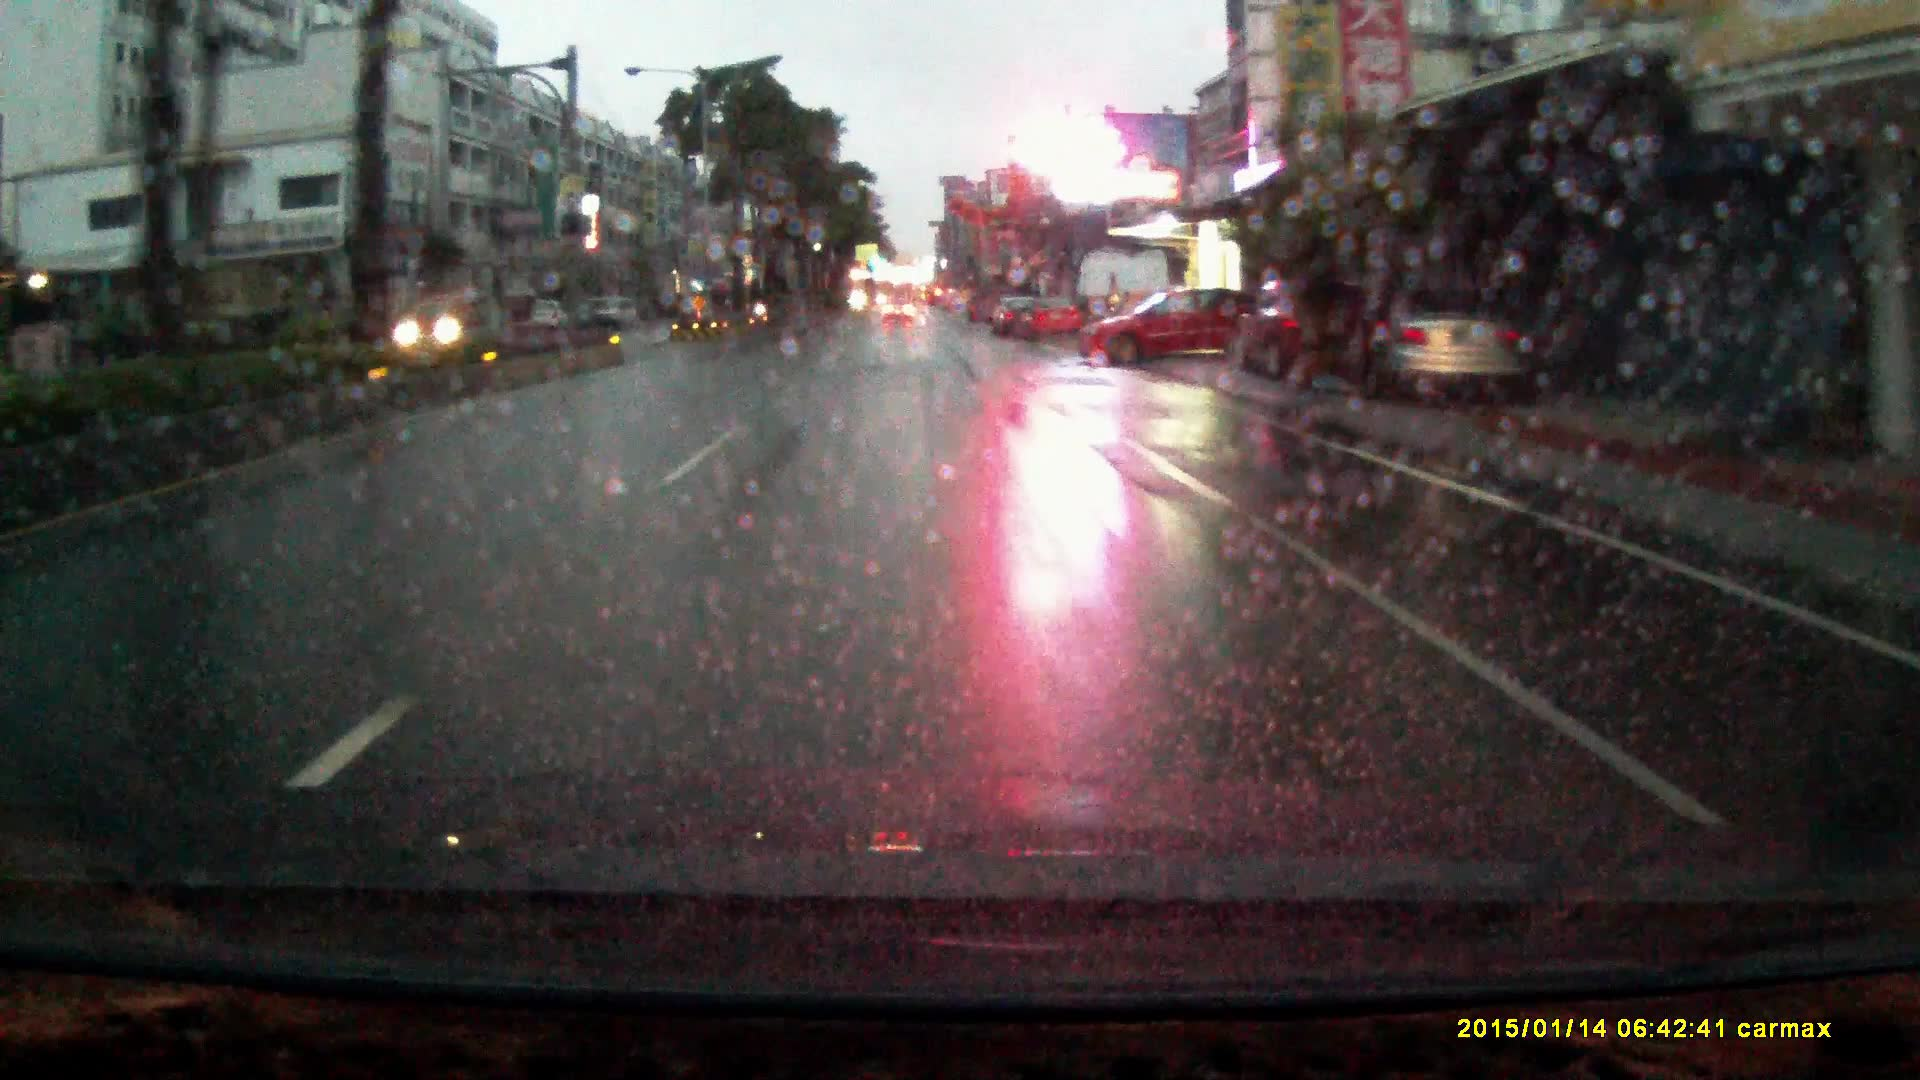vehicle: (1350, 293, 1524, 411), (1230, 276, 1385, 392), (1071, 286, 1247, 369), (392, 295, 493, 352), (1015, 295, 1083, 344), (992, 298, 1040, 343), (597, 299, 638, 334), (884, 299, 916, 327)
